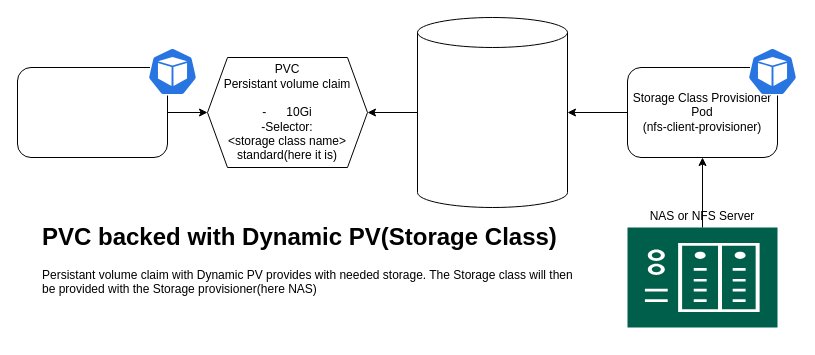
The diagram is 815 pixels wide and 355 high, and some of its shapes have lost their labels. Here are the shapes that lost their labels. From the top down, the box of each, then its label:
(16, 66, 168, 158): Pod which seeks PVC
(416, 16, 568, 208): Storage Class (Standard)
